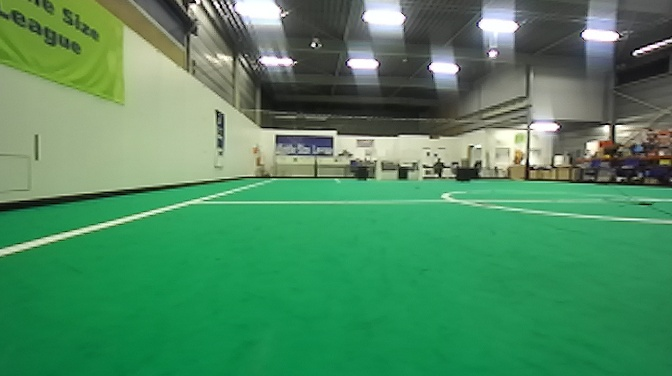goalpost: (416, 157, 425, 182), (375, 156, 379, 181)
